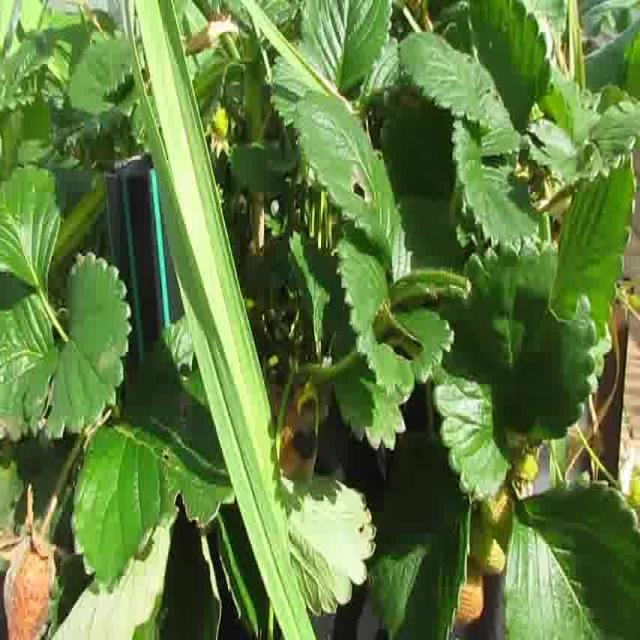Fruta sana: (478, 482, 516, 546), (468, 520, 506, 576), (453, 567, 485, 621), (512, 452, 540, 479), (212, 106, 230, 140), (626, 466, 640, 508), (629, 293, 640, 313)
Moho gris: (3, 531, 58, 638)
